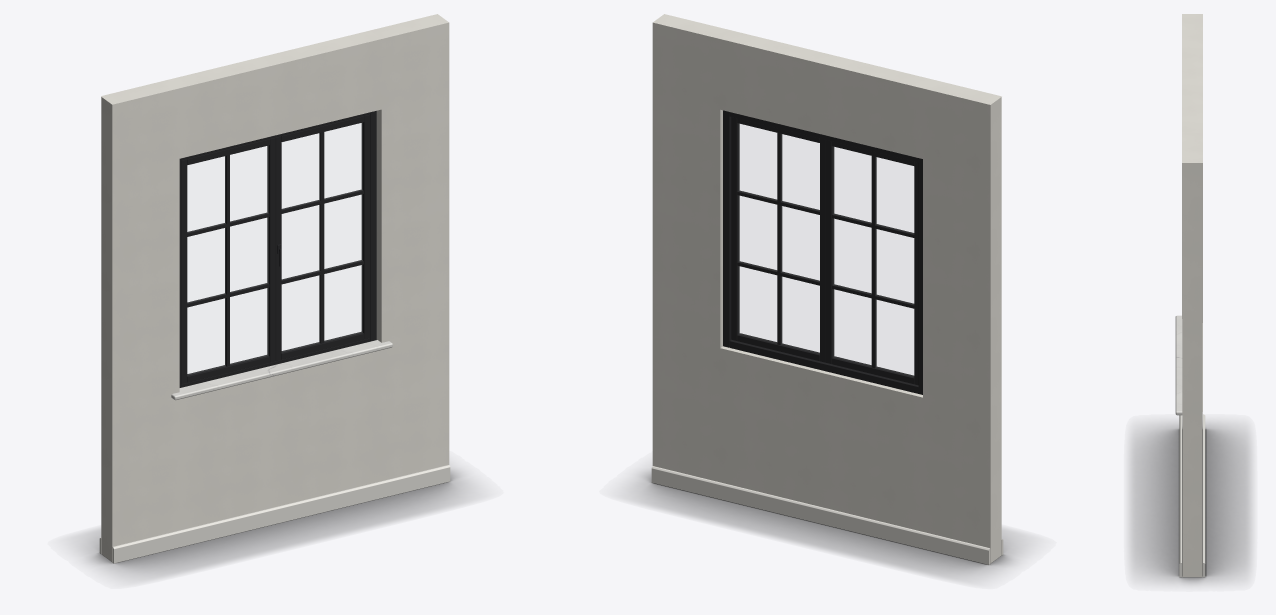
Rendered from wall_window.glb.
3 renders of one model, left to right at view 1: azimuth 30°, elevation 25°; view 2: azimuth 150°, elevation 25°; view 3: azimuth 270°, elevation 25°, orthographic. The views are drawn at different scales.
Parts seen in each view (by area): view 1: wall_window_LOD0, wall_window_Shadow; view 2: wall_window_LOD0, wall_window_Shadow; view 3: wall_window_Shadow, wall_window_LOD0.
Boxes of the visible parts, bbox=[...] form: wall_window_LOD0: bbox=[99, 14, 450, 563]; wall_window_Shadow: bbox=[81, 469, 468, 577]; wall_window_LOD0: bbox=[651, 14, 1003, 564]; wall_window_Shadow: bbox=[632, 470, 1021, 578]; wall_window_Shadow: bbox=[1131, 423, 1250, 583]; wall_window_LOD0: bbox=[1175, 14, 1205, 577].
Size of what is drawn, in the model's own units: 2.64 by 2.6 by 0.8095.
6 materials, 3 textured.
